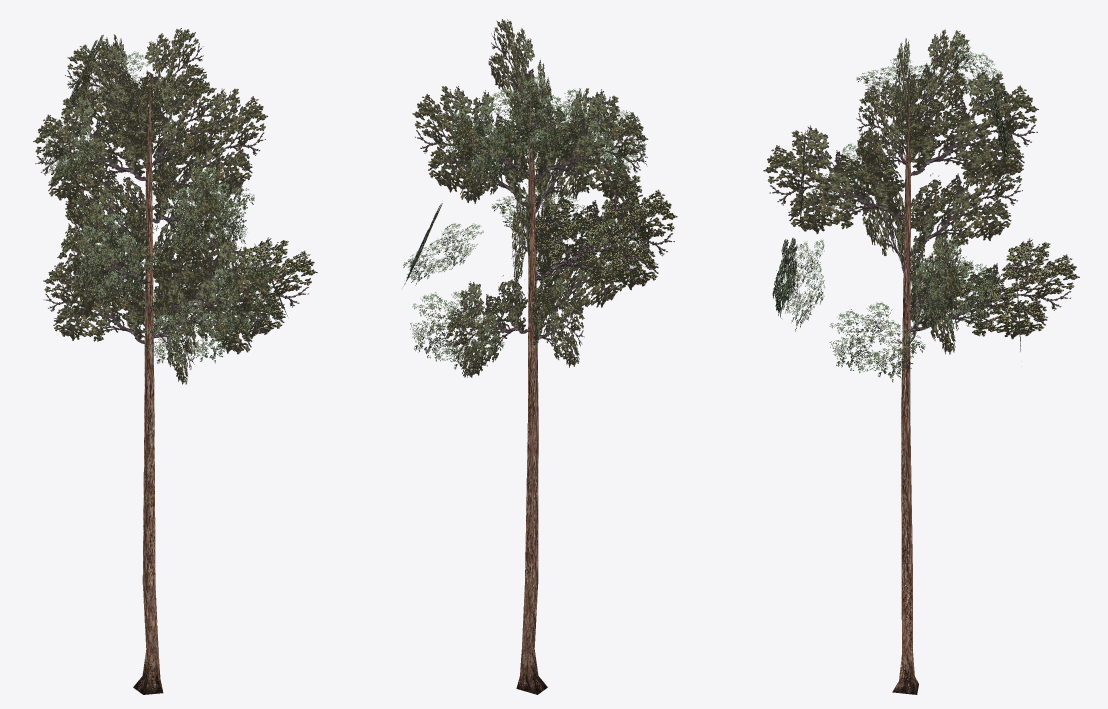
The model's file is stage-flor-p2-0.glb.
3 views of the same model, side by side, from view 1: azimuth 30°, elevation 25°; view 2: azimuth 150°, elevation 25°; view 3: azimuth 270°, elevation 25° (orthographic).
Size of the model in its own units: 16.58 by 36.66 by 17.96.
4 materials, 4 textured.
